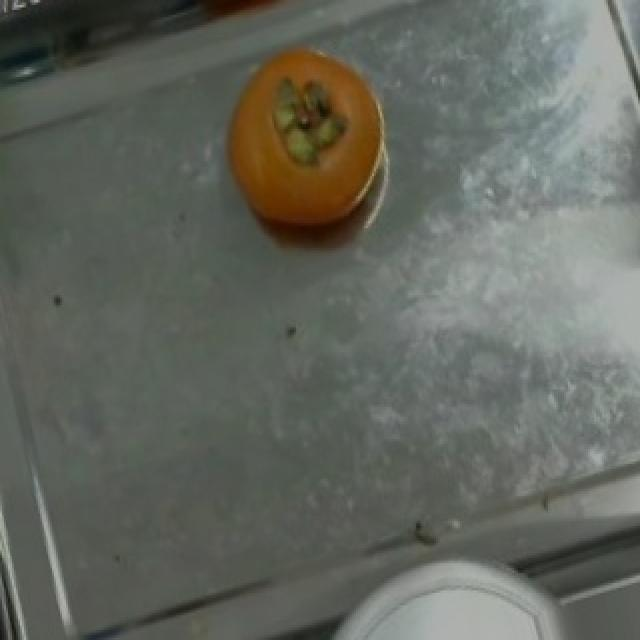Fruit: (204, 20, 410, 255), (352, 568, 570, 640)
